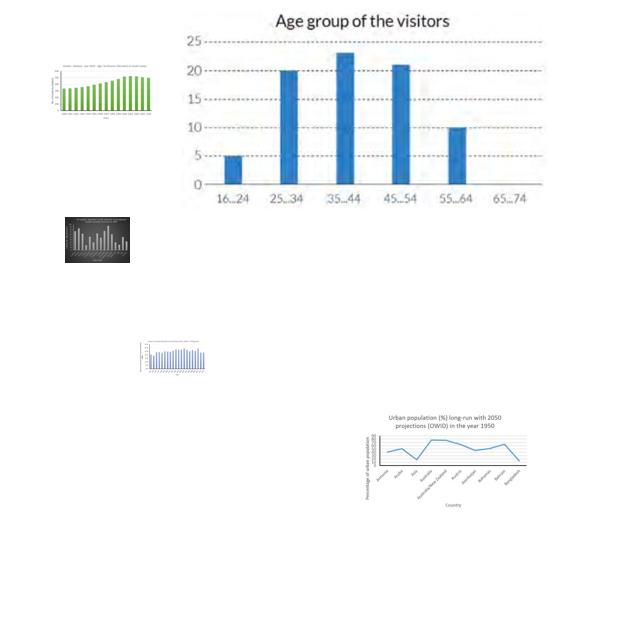Graph: (181, 3, 548, 209), (362, 413, 530, 509), (48, 62, 154, 121), (65, 217, 130, 263), (139, 339, 206, 376)
